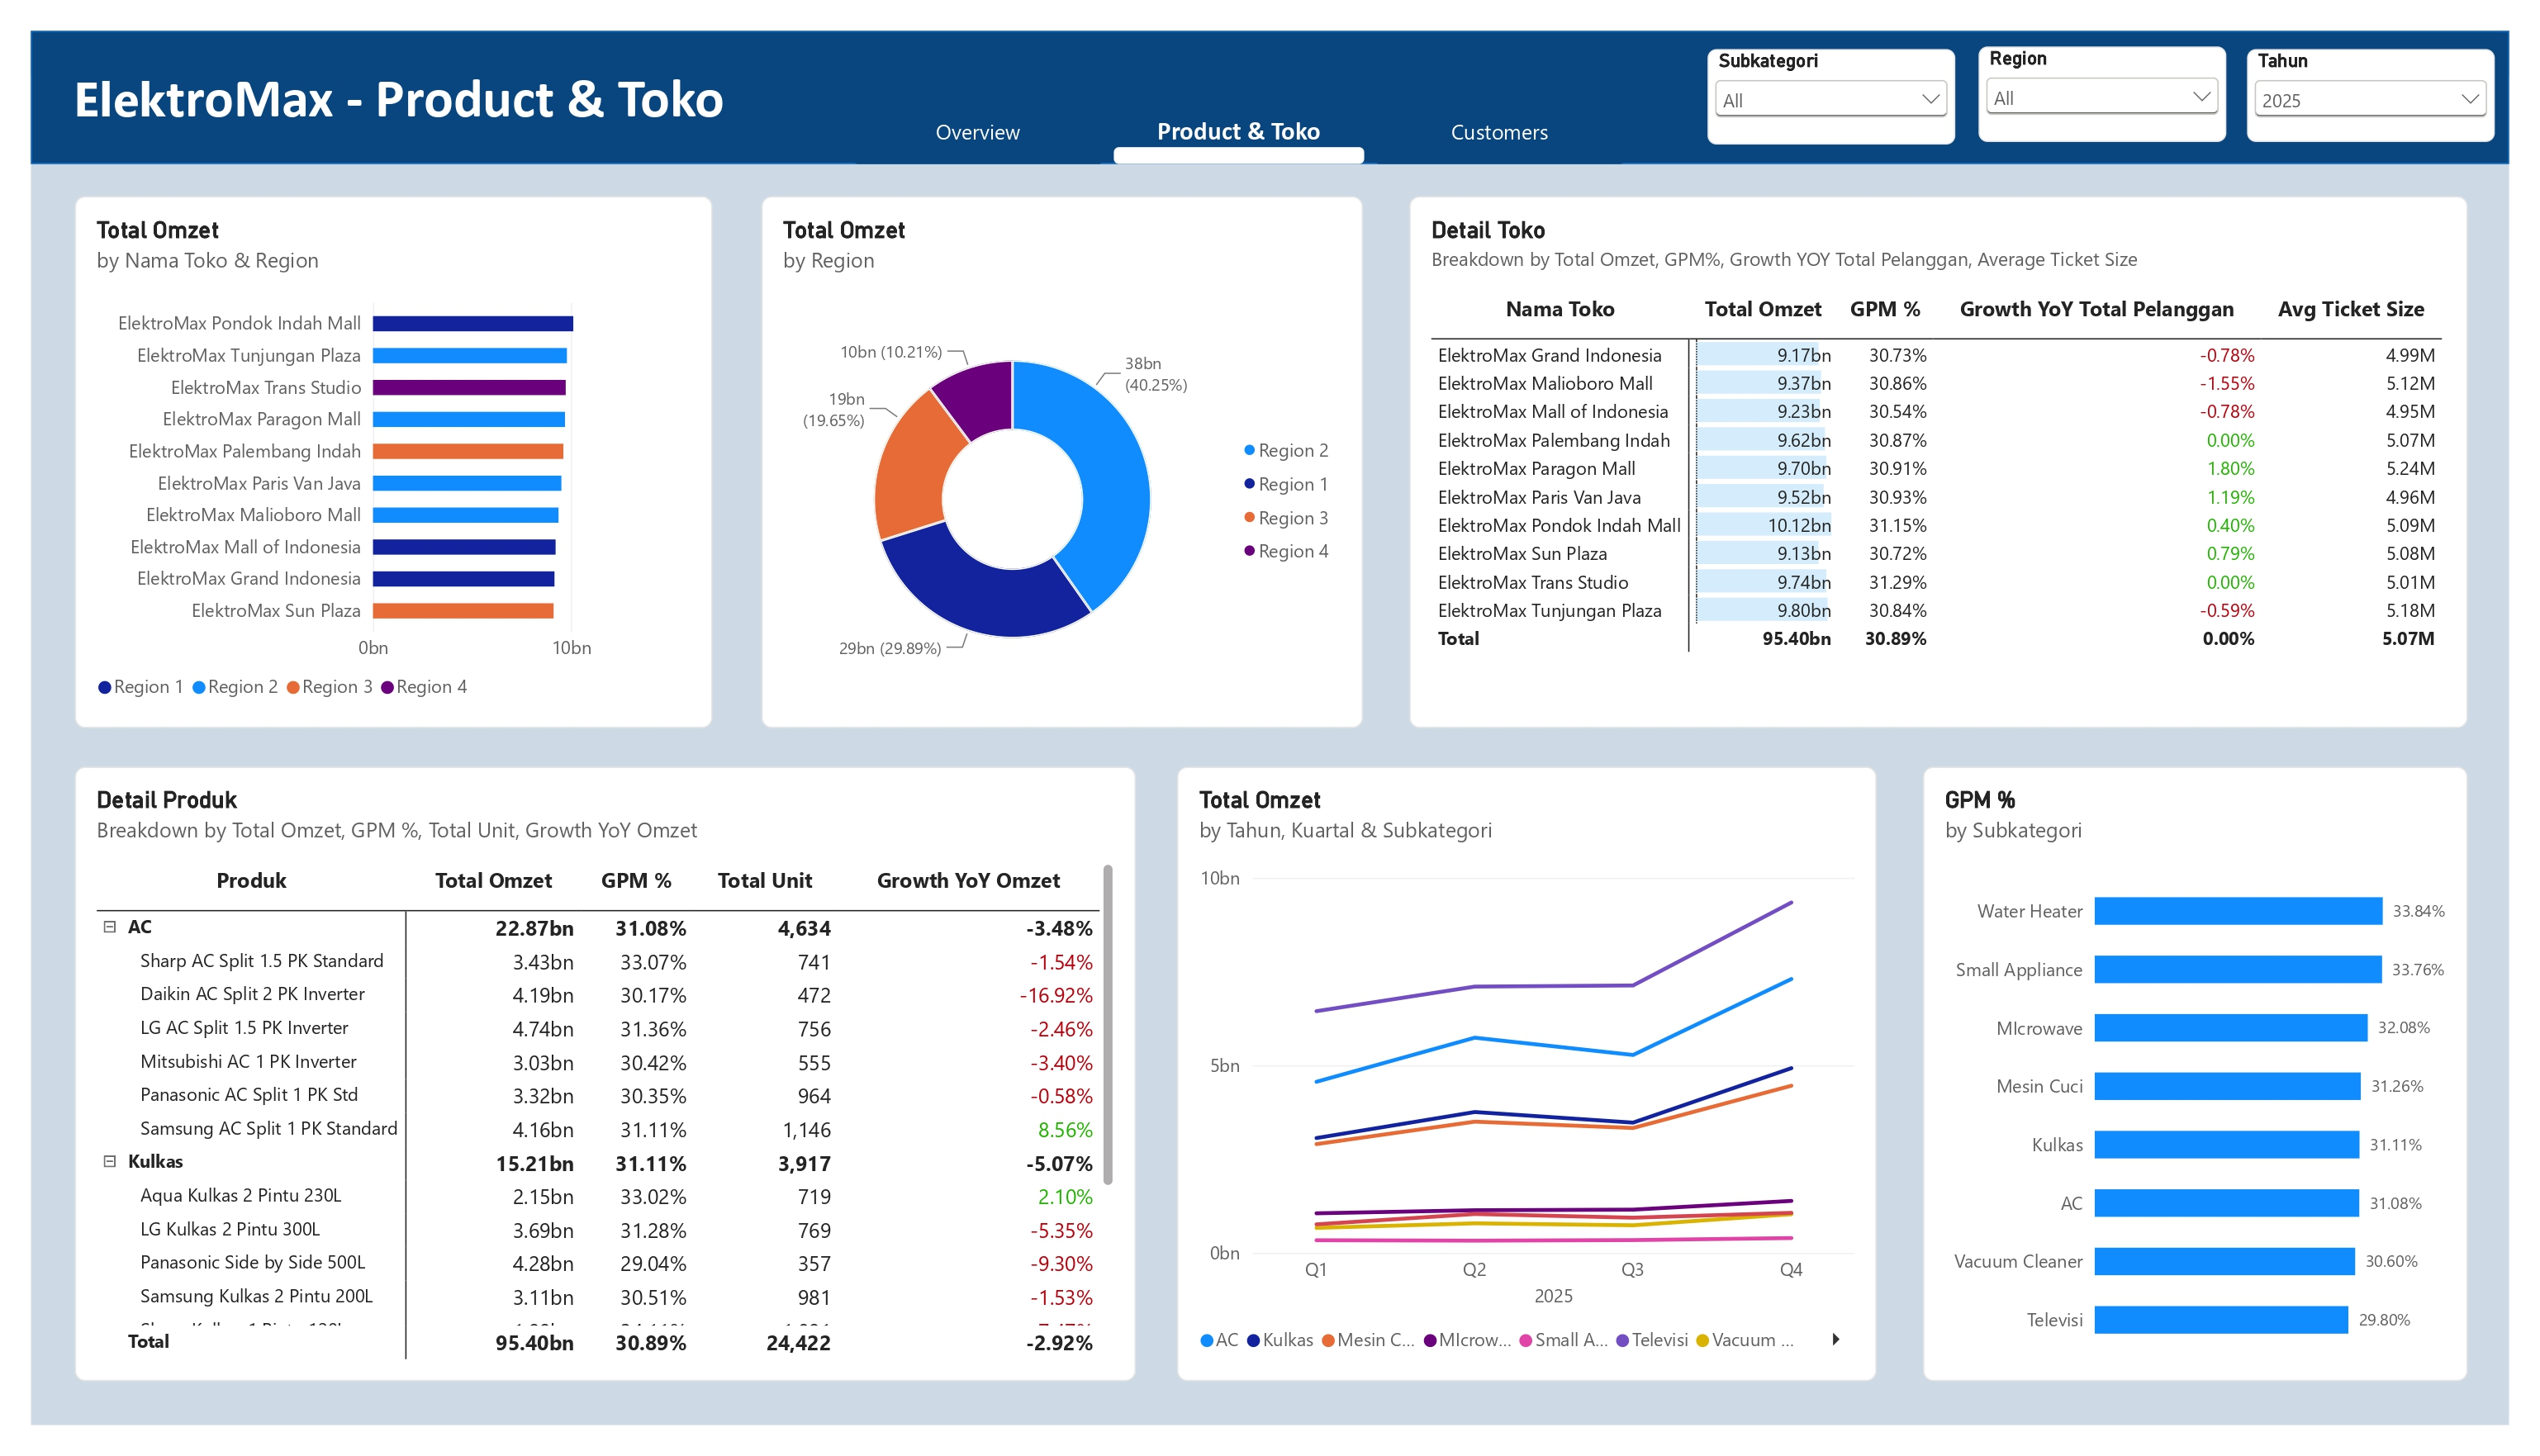

Layout of this report page (visuals, bound fields, positions):
{"tool":"powerbi","page":{"name":"Product & Toko","canvas":[1920,1080],"ordinal":1},"visuals":[{"type":"shape","box":[0,0,1920,103.3],"z":0},{"type":"slicer","fields":{"Values":["DIM_WAKTU.tahun"]},"box":[1716.7,14,192,72],"z":1000},{"type":"barChart","title":"Total Omzet ","fields":{"Category":["DIM_TOKO.nama_toko"],"Series":["DIM_TOKO.region"],"Y":["_MEASURE.Total Omzet"]},"box":[34,128,494,412],"z":2000},{"type":"donutChart","title":"Total Omzet ","fields":{"Category":["DIM_TOKO.region"],"Y":["_MEASURE.Total Omzet"]},"box":[566,128,466,412],"z":3000},{"type":"lineChart","title":"Total Omzet","fields":{"Category":["DIM_WAKTU.tahun Hierarchy.tahun","DIM_WAKTU.tahun Hierarchy.kuartal","DIM_WAKTU.tahun Hierarchy.bulan","DIM_WAKTU.tahun Hierarchy.tanggal"],"Series":["DIM_PRODUK.subkategori"],"Y":["_MEASURE.Total Omzet"]},"box":[888,570,542,476],"z":4000},{"type":"barChart","title":"GPM % ","fields":{"Category":["DIM_PRODUK.subkategori"],"Y":["_MEASURE.GPM %"]},"box":[1466,570,422,476],"z":5000},{"type":"slicer","fields":{"Values":["DIM_TOKO.region"]},"box":[1508.7,12,192,74],"z":6000},{"type":"slicer","fields":{"Values":["DIM_PRODUK.subkategori"]},"box":[1298.7,14,192,74],"z":7000},{"type":"textbox","box":[33.3,25,528.3,75],"z":8000},{"type":"pageNavigator","box":[636.7,53.3,600,50],"z":8000,"group":"g1"},{"type":"group","id":"g1","title":"Page Navigator","box":[636.7,53.3,600,50],"z":9000},{"type":"pageNavigator","box":[636.7,90,600,13.3],"z":9000,"group":"g1"},{"type":"pivotTable","title":"Detail Toko","fields":{"Rows":["DIM_TOKO.nama_toko"],"Values":["_MEASURE.Total Omzet","_MEASURE.GPM %","_MEASURE.Growth YoY JMLH Pelanggan","_MEASURE.Avg Ticket Size"]},"box":[1068,128,820,412],"z":10000},{"type":"pivotTable","title":"Detail Produk","fields":{"Rows":["DIM_PRODUK.subkategori","DIM_PRODUK.nama_produk"],"Values":["_MEASURE.Total Omzet","_MEASURE.GPM %","_MEASURE.Total Unit","_MEASURE.Growth YoY Omzet"]},"box":[34,570,822,476],"z":11000}]}

Visuals, with their boxes on the page's 1920x1080 design canvas (x1, y1, x2, y2). These are canvas units, not pixel positions in the 2540x1456 screenshot, which may show the page scaled, cropped or inside an application window:
shape: [0, 0, 1920, 103]
slicer - DIM_WAKTU.tahun: [1717, 14, 1909, 86]
"Total Omzet " barChart: [34, 128, 528, 540]
"Total Omzet " donutChart: [566, 128, 1032, 540]
"Total Omzet" lineChart: [888, 570, 1430, 1046]
"GPM % " barChart: [1466, 570, 1888, 1046]
slicer - DIM_TOKO.region: [1509, 12, 1701, 86]
slicer - DIM_PRODUK.subkategori: [1299, 14, 1491, 88]
textbox: [33, 25, 562, 100]
pageNavigator: [637, 53, 1237, 103]
"Page Navigator" group: [637, 53, 1237, 103]
pageNavigator: [637, 90, 1237, 103]
"Detail Toko" pivotTable: [1068, 128, 1888, 540]
"Detail Produk" pivotTable: [34, 570, 856, 1046]
